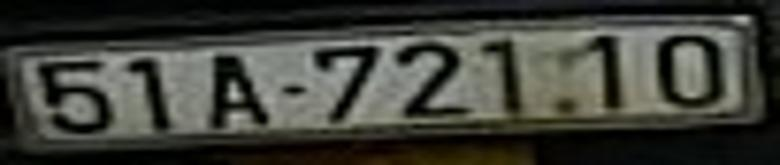-: (280, 81, 309, 97)
.: (556, 96, 573, 112)
0: (655, 33, 726, 107)
1: (481, 40, 526, 115), (128, 56, 171, 131), (584, 34, 625, 111)
2: (396, 45, 469, 115)
5: (36, 62, 112, 130)
7: (312, 48, 380, 123)
A: (203, 53, 270, 130)
